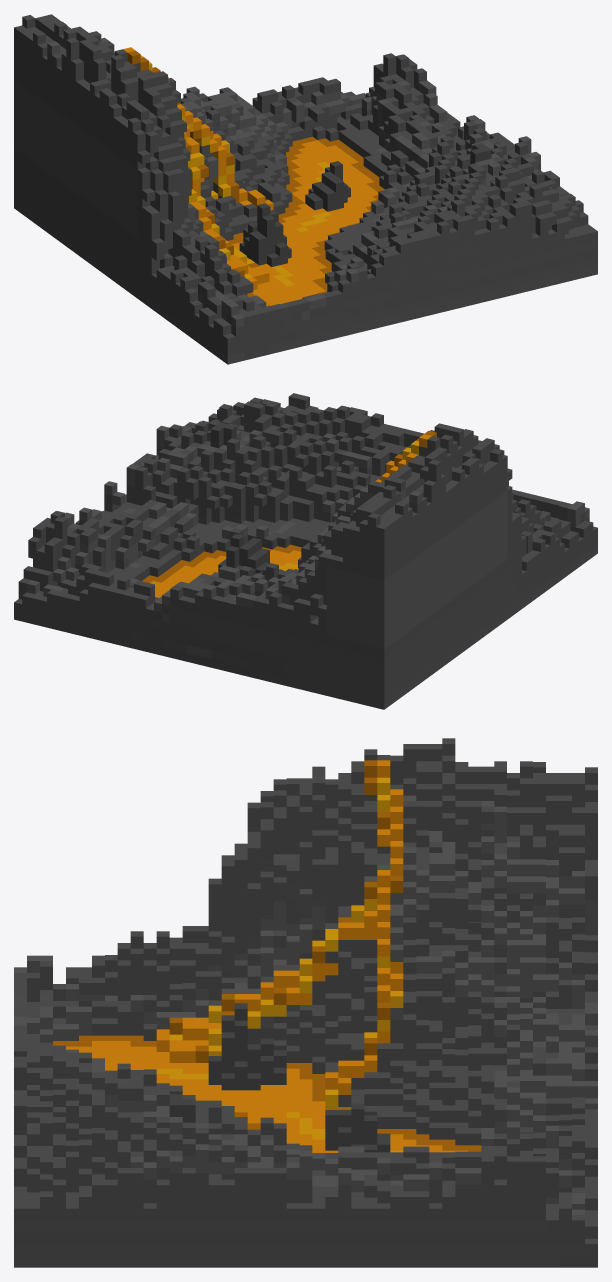
File: voxel-lava.glb
3 renders of one model, top to bottom at view 1: azimuth 30°, elevation 25°; view 2: azimuth 150°, elevation 25°; view 3: azimuth 270°, elevation 25°, orthographic. The views are drawn at different scales.
Parts seen in each view (by area): view 1: Object_2; view 2: Object_2; view 3: Object_2.
Boxes of the visible parts, box(x1,y1,x2,y2) form: Object_2: box(14, 14, 597, 364); Object_2: box(14, 393, 597, 709); Object_2: box(14, 738, 597, 1267).
Size of the model in its own units: 45 by 24 by 45.
